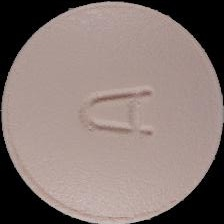65862-052: (0, 0, 224, 224)
